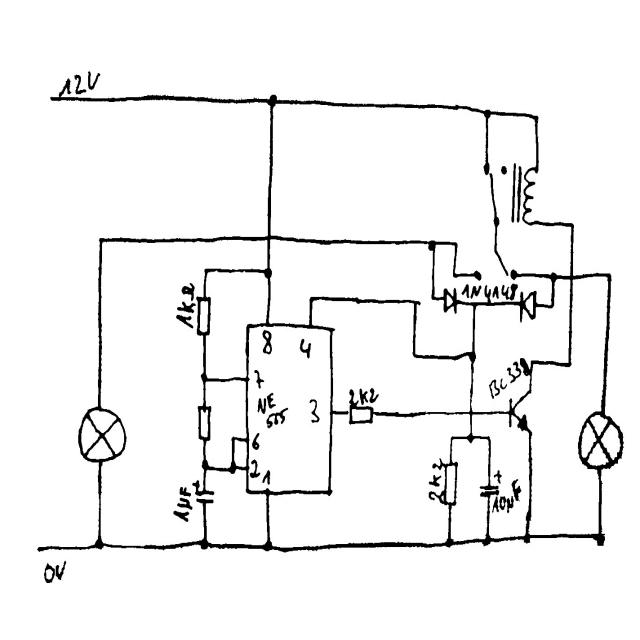capacitor: (478, 467, 502, 499), (192, 479, 215, 506)
crossover: (264, 231, 274, 244), (568, 273, 576, 284), (468, 410, 474, 417)
diode: (519, 289, 538, 324), (442, 285, 458, 316)
junction: (263, 265, 273, 280), (93, 538, 104, 551), (427, 239, 437, 253), (200, 536, 209, 551), (199, 371, 209, 384), (468, 350, 477, 364), (268, 94, 277, 108), (201, 263, 210, 277), (483, 533, 491, 548), (201, 458, 210, 471), (263, 540, 272, 553), (549, 271, 558, 284), (229, 461, 237, 475), (412, 298, 422, 309), (307, 295, 316, 307), (445, 537, 454, 549), (596, 533, 604, 546), (484, 108, 492, 119), (532, 113, 540, 124), (523, 533, 531, 544), (453, 239, 461, 249), (605, 271, 613, 281), (548, 301, 556, 311), (566, 359, 573, 370), (411, 351, 418, 361), (471, 300, 478, 310), (467, 434, 474, 444), (430, 294, 437, 304), (569, 221, 576, 230), (486, 434, 493, 443), (452, 271, 458, 281), (231, 435, 237, 443), (98, 236, 104, 244), (529, 358, 535, 366), (449, 435, 454, 443)
resistor: (443, 461, 459, 508), (196, 295, 212, 338), (196, 403, 212, 443), (346, 405, 376, 425)
switch: (474, 248, 517, 282)
terminal: (48, 92, 56, 104), (35, 544, 42, 555)
text: (488, 357, 530, 402), (257, 392, 290, 428), (460, 283, 518, 302), (59, 71, 100, 97), (491, 479, 522, 513), (175, 281, 196, 330), (427, 456, 444, 506), (172, 485, 194, 522), (348, 387, 380, 406), (44, 560, 68, 584), (261, 329, 273, 356), (308, 398, 320, 425), (253, 368, 266, 390), (299, 338, 312, 360), (249, 459, 261, 478), (252, 431, 261, 451), (262, 469, 271, 486)
transistor: (507, 389, 535, 434)
